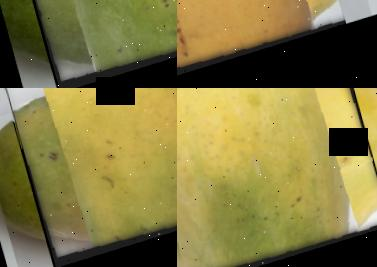PartiallyRipe: (177, 88, 377, 267), (0, 88, 177, 267)
Ripe: (177, 0, 346, 88)
Unripe: (8, 0, 177, 88)
